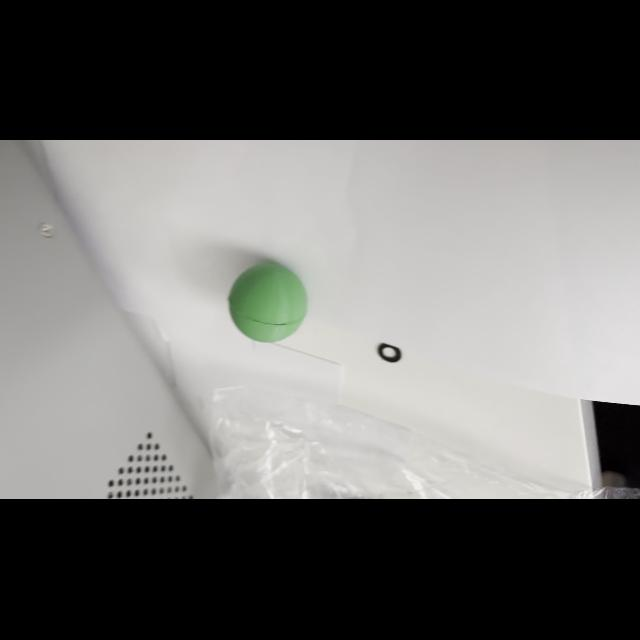objects: (225, 258, 313, 344)
